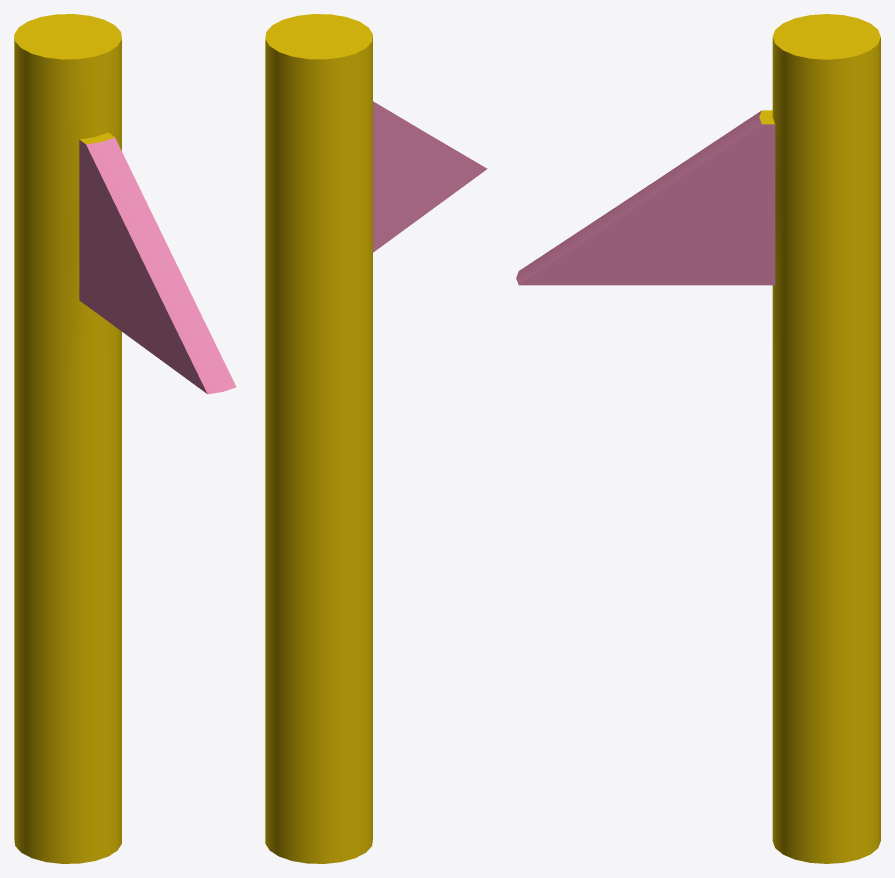
Rendered from flag.fbx.
The picture shows the model from 3 angles, left to right: view 1: azimuth 30°, elevation 25°; view 2: azimuth 150°, elevation 25°; view 3: azimuth 270°, elevation 25°; orthographic projection.
Visible parts, largest first — view 1: pCylinder2; view 2: pCylinder2; view 3: pCylinder2.
Part boxes in pixels (x1,y1,x2,y2): pCylinder2: [14, 14, 236, 863]; pCylinder2: [265, 14, 487, 863]; pCylinder2: [516, 14, 880, 863].
Bounding box in the file's own units: 5.99 × 49.12 × 20.19.
